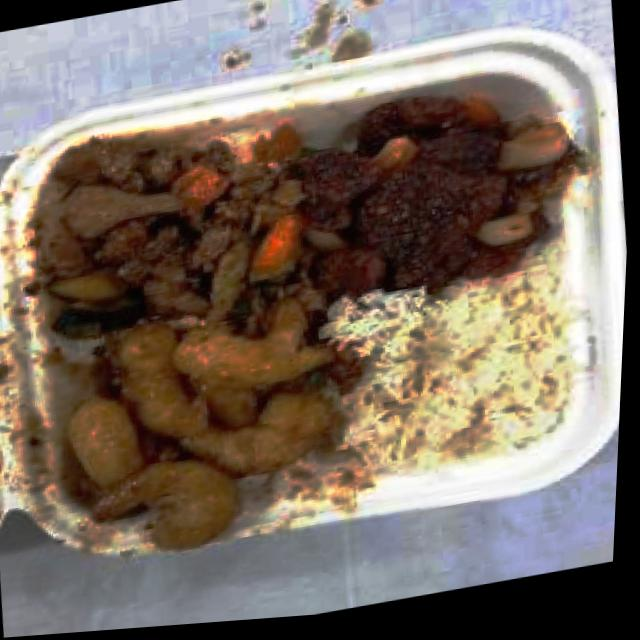Beijing Beef: (287, 68, 586, 301)
Kung Pao Chicken: (35, 109, 309, 341)
rice: (316, 261, 594, 487)
